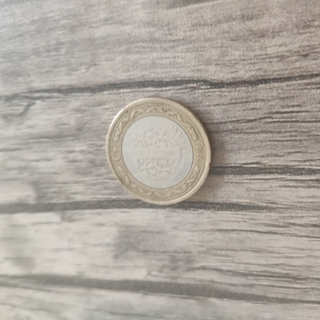1TL: (103, 95, 214, 207)
